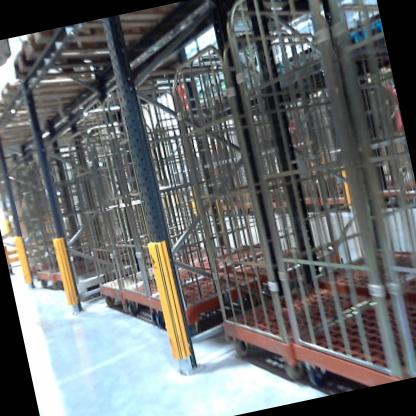pallet: (7, 0, 198, 90), (0, 35, 165, 115), (0, 81, 99, 141), (327, 19, 385, 59)
